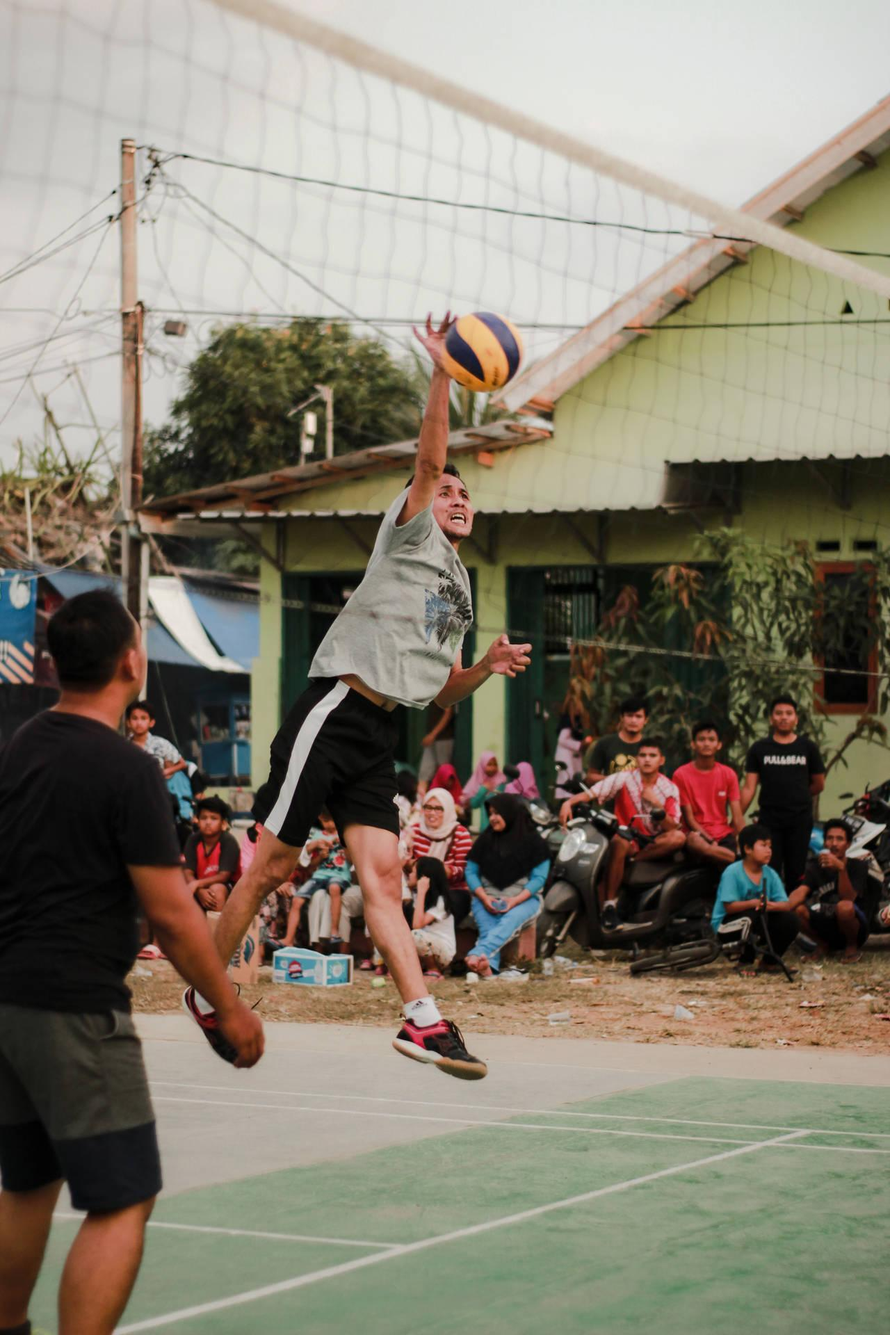ballon_volley: (438, 308, 525, 396)
